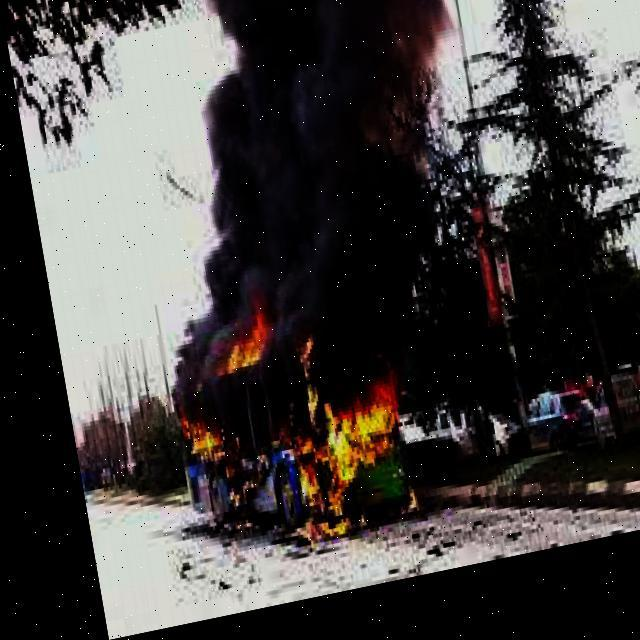Fire: (251, 342, 416, 574), (148, 354, 226, 472), (194, 294, 271, 401)
